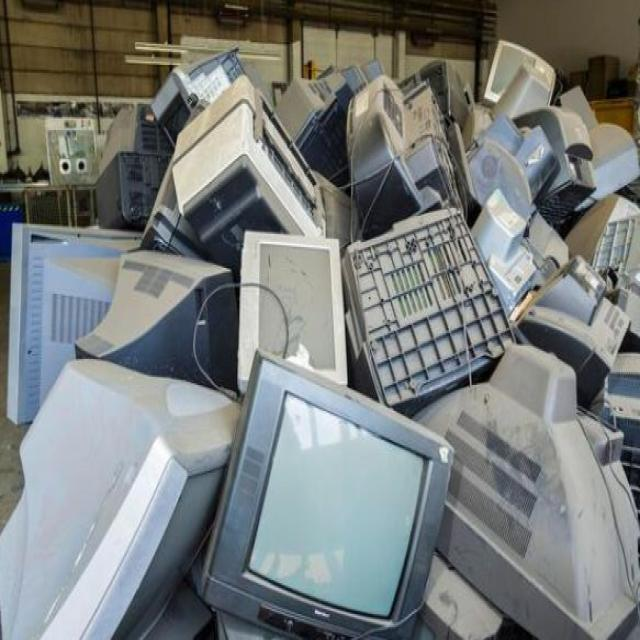electronic: (198, 346, 454, 638)
